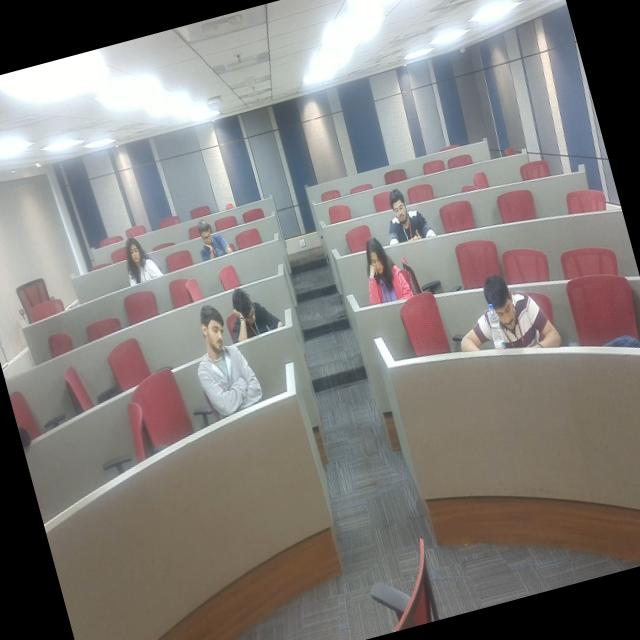non-cheating: (175, 286, 278, 442)
